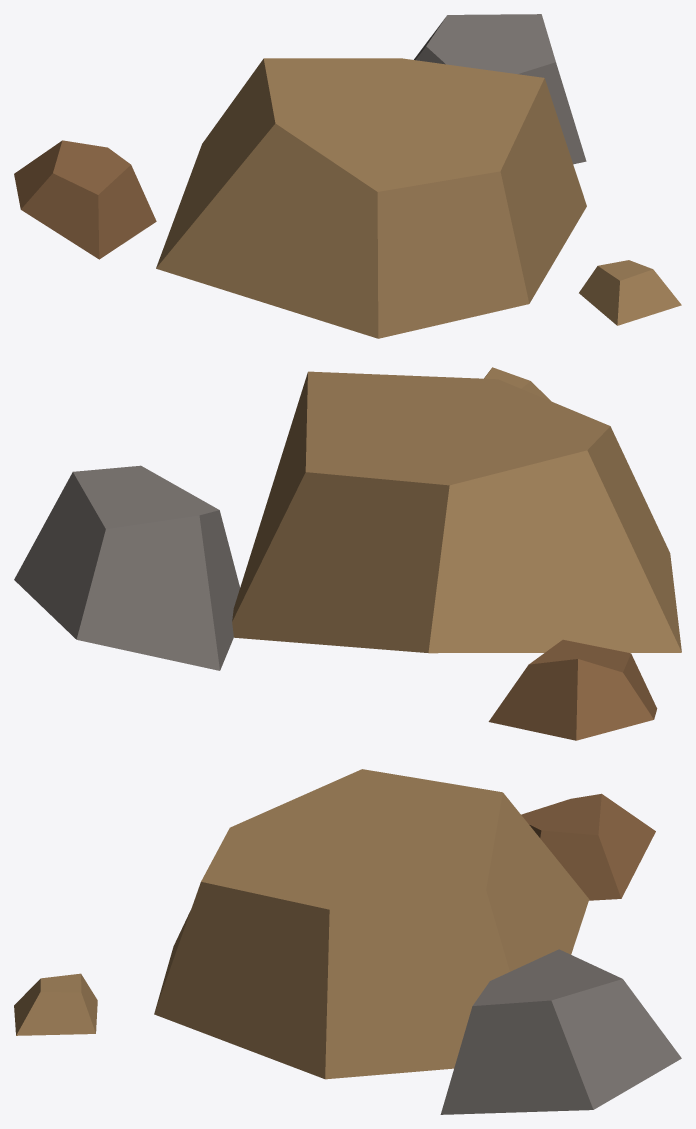
The model's file is pebbles.glb.
The picture shows the model from 3 angles, top to bottom: view 1: azimuth 30°, elevation 25°; view 2: azimuth 150°, elevation 25°; view 3: azimuth 270°, elevation 25°; orthographic projection. The views are drawn at different scales.
Visible parts, largest first — view 1: pebbles; view 2: pebbles; view 3: pebbles.
Part boxes in pixels (bbox=[...]): pebbles: bbox=[14, 14, 681, 338]; pebbles: bbox=[14, 367, 681, 740]; pebbles: bbox=[14, 769, 681, 1114].
Bounding box in the file's own units: 1.6 × 0.4611 × 1.58.
